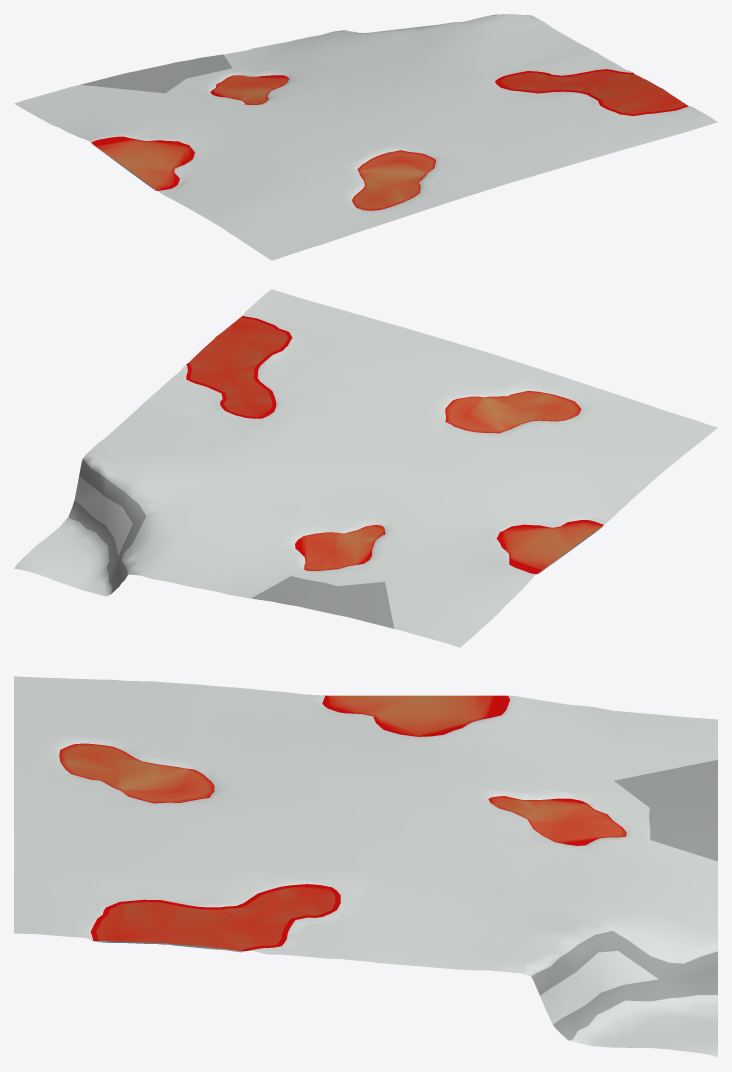
3 views of the same model, one above another, from view 1: azimuth 30°, elevation 25°; view 2: azimuth 150°, elevation 25°; view 3: azimuth 270°, elevation 25° (orthographic). The views are drawn at different scales.
Parts seen in each view (by area): view 1: G:\FFXIV-MapTools\exports\r2f1\bg\ex1\01_roc_r2\fld\r2f1\bgp (×3); view 2: G:\FFXIV-MapTools\exports\r2f1\bg\ex1\01_roc_r2\fld\r2f1\bgp (×6); view 3: G:\FFXIV-MapTools\exports\r2f1\bg\ex1\01_roc_r2\fld\r2f1\bgp (×6).
Boxes of the visible parts, left/top/right/bottom form: G:\FFXIV-MapTools\exports\r2f1\bg\ex1\01_roc_r2\fld\r2f1\bgp (×3): left=14, top=14, right=717, bottom=260; G:\FFXIV-MapTools\exports\r2f1\bg\ex1\01_roc_r2\fld\r2f1\bgp (×6): left=14, top=289, right=717, bottom=647; G:\FFXIV-MapTools\exports\r2f1\bg\ex1\01_roc_r2\fld\r2f1\bgp (×6): left=14, top=676, right=717, bottom=1057.
Size of the model in its own units: 128 by 26.38 by 128.
